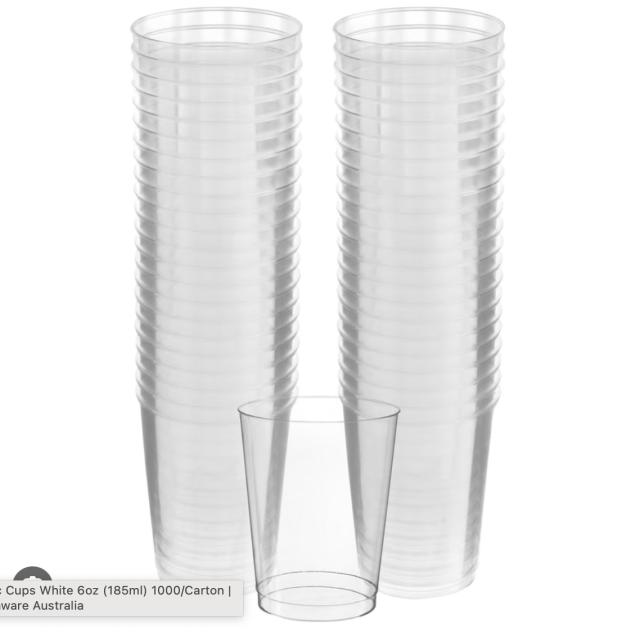recyclable: (215, 372, 430, 632)
